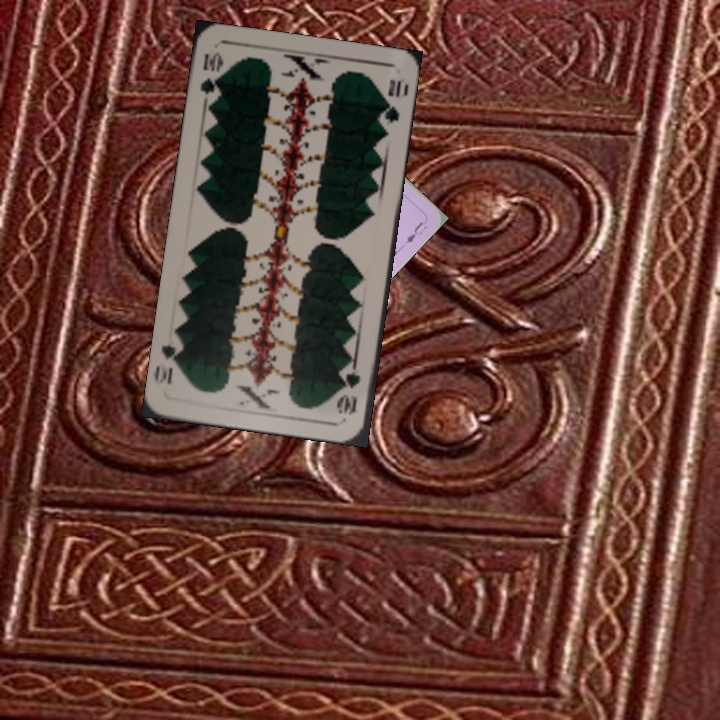G10: (196, 48, 225, 107), (336, 359, 363, 418)
